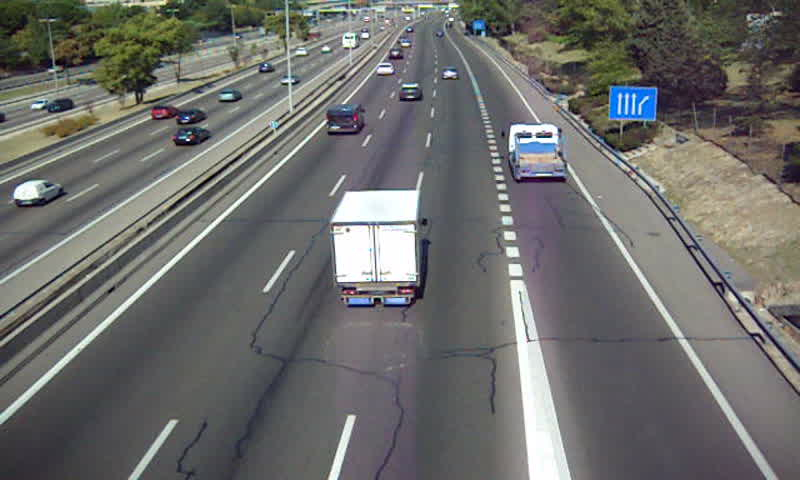car: (398, 82, 424, 105), (374, 62, 394, 78), (442, 66, 459, 80)
small-truck: (332, 190, 423, 307), (507, 123, 567, 178)
van: (326, 104, 364, 133)
